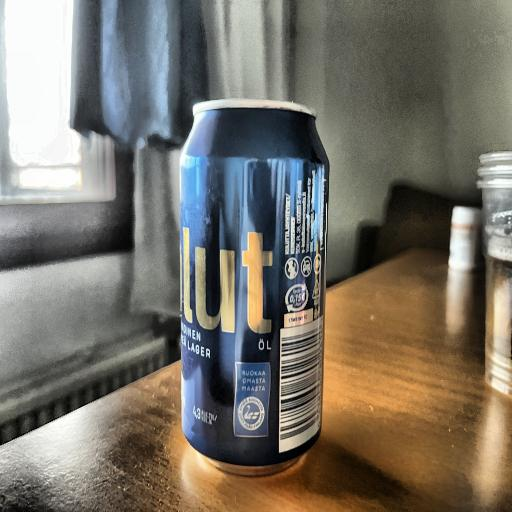koti: (178, 87, 324, 474)
